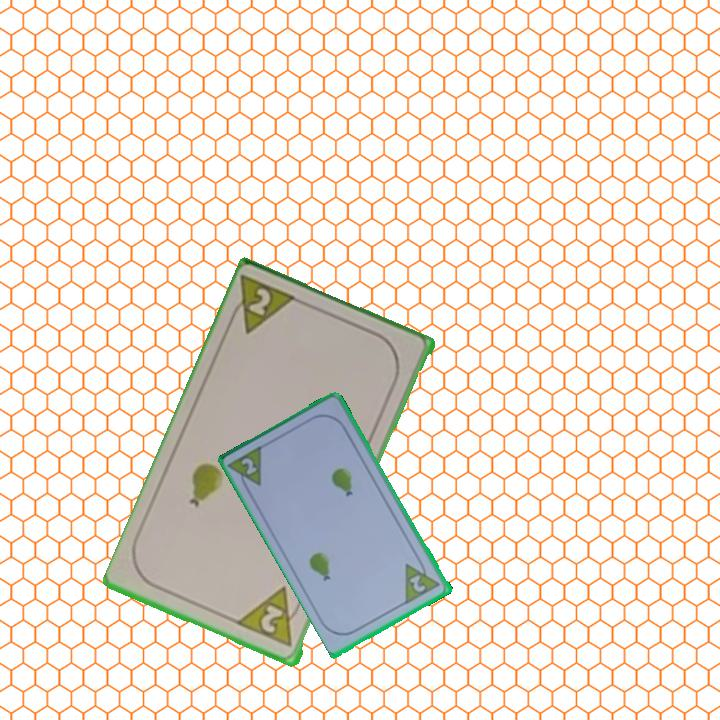2p: (224, 272, 302, 338), (236, 584, 306, 651), (225, 441, 267, 496), (406, 571, 429, 596)
